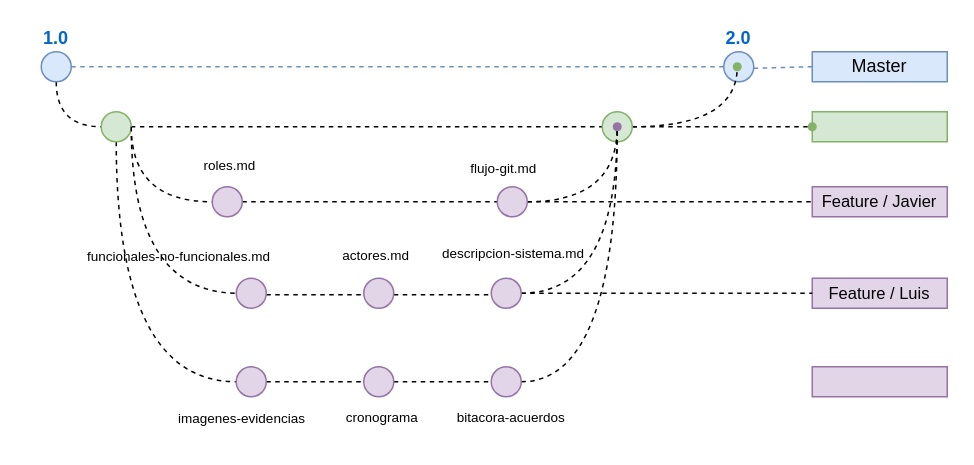
This 974x465 diagram has some shape labels left out. Here are the shapes that lost their labels. From the top down, the box of each, then its label:
(811, 110, 947, 142): Development
(811, 365, 947, 397): Feature / Jazmin
